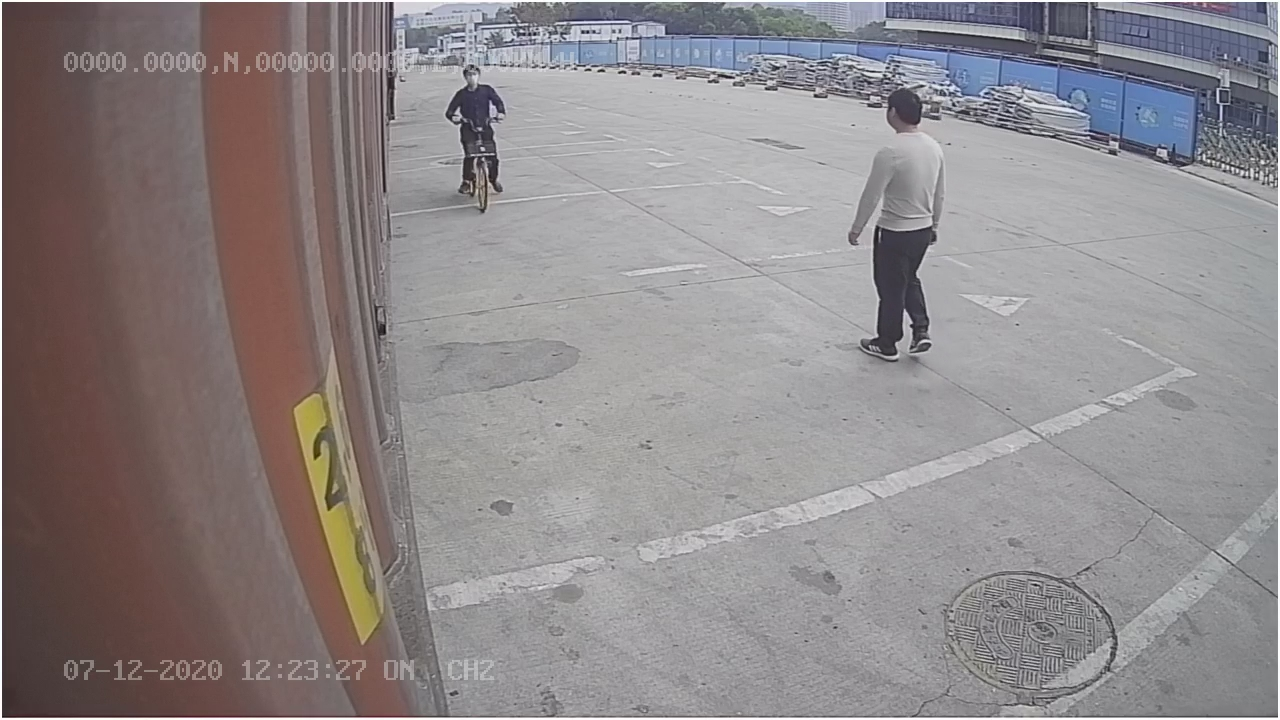person: (842, 85, 952, 365)
